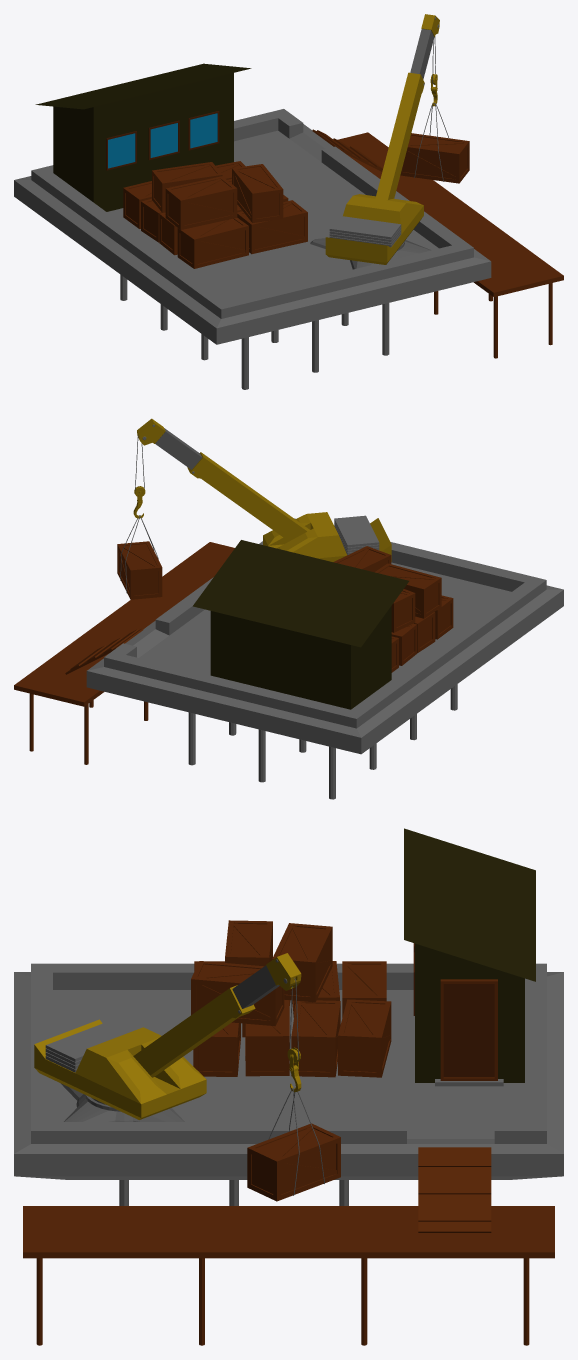
Rendered from port.fbx.
3 views of the same model, one above another, from view 1: azimuth 30°, elevation 25°; view 2: azimuth 150°, elevation 25°; view 3: azimuth 270°, elevation 25° (orthographic). The views are drawn at different scales.
Parts seen in each view (by area): view 1: Cube, Cube.001, Cube.006, Cube.008, box.009, box.003, box.006, Cube.010, Cube.003, box.011, box.007, Cylinder (+10 smaller); view 2: Cube, Cube.001, Cube.006, Cube.010, Cube.008, box.006, Cylinder, box.009, Cube.009, box.011, box.008, Cube.012 (+5 smaller); view 3: Cube, Cube.006, Cube.001, Cube.008, Cube.007, box.006, Cube.013, Cube.010, box.004, box.005, box.008, box.011 (+10 smaller).
Boxes of the visible parts, <box> form: Cube: <box>14,109,491,344</box>; Cube.001: <box>35,63,251,211</box>; Cube.006: <box>337,132,563,296</box>; Cube.008: <box>325,194,423,264</box>; box.009: <box>165,176,237,229</box>; box.003: <box>177,217,248,268</box>; box.006: <box>400,133,469,183</box>; Cube.010: <box>375,14,439,200</box>; Cube.003: <box>108,113,217,168</box>; box.011: <box>232,164,283,222</box>; box.007: <box>237,200,307,254</box>; Cylinder: <box>120,274,389,389</box>; Cube: <box>86,518,563,754</box>; Cube.001: <box>193,540,409,709</box>; Cube.006: <box>14,542,234,706</box>; Cube.010: <box>137,418,309,541</box>; Cube.008: <box>263,512,391,561</box>; box.006: <box>117,541,162,599</box>; Cylinder: <box>188,684,457,799</box>; box.009: <box>375,563,441,618</box>; Cube.009: <box>334,515,379,554</box>; box.011: <box>333,546,391,572</box>; box.008: <box>391,589,415,632</box>; Cube.012: <box>155,428,202,469</box>; Cube: <box>14,963,563,1179</box>; Cube.006: <box>23,1206,554,1258</box>; Cube.001: <box>404,828,535,1082</box>; Cube.008: <box>34,1019,206,1119</box>; Cube.007: <box>418,1147,491,1232</box>; box.006: <box>247,1123,340,1201</box>; Cube.013: <box>443,984,494,1077</box>; Cube.010: <box>133,953,301,1077</box>; box.004: <box>338,999,391,1077</box>; box.005: <box>291,1000,340,1077</box>; box.008: <box>272,923,332,1002</box>; box.011: <box>191,961,284,1026</box>.
Bounding box in the file's own units: 999 × 740 × 1000.
